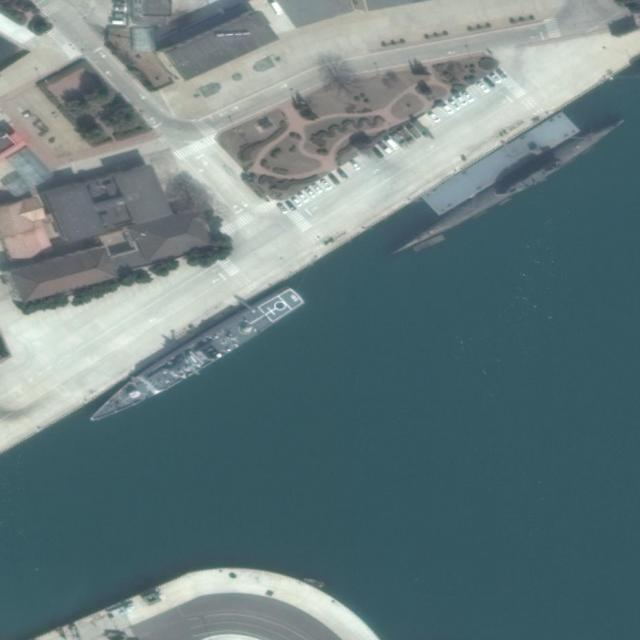Auxiliary Ships: (83, 279, 306, 432)
Submarine: (379, 106, 634, 266)
